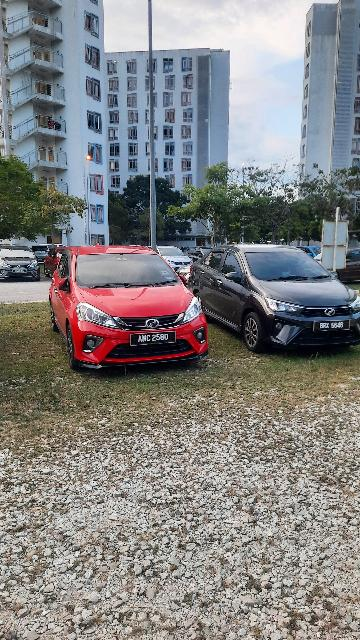License_Plate: (127, 331, 179, 348), (316, 318, 353, 332)
car: (49, 245, 212, 371), (190, 241, 360, 356)
